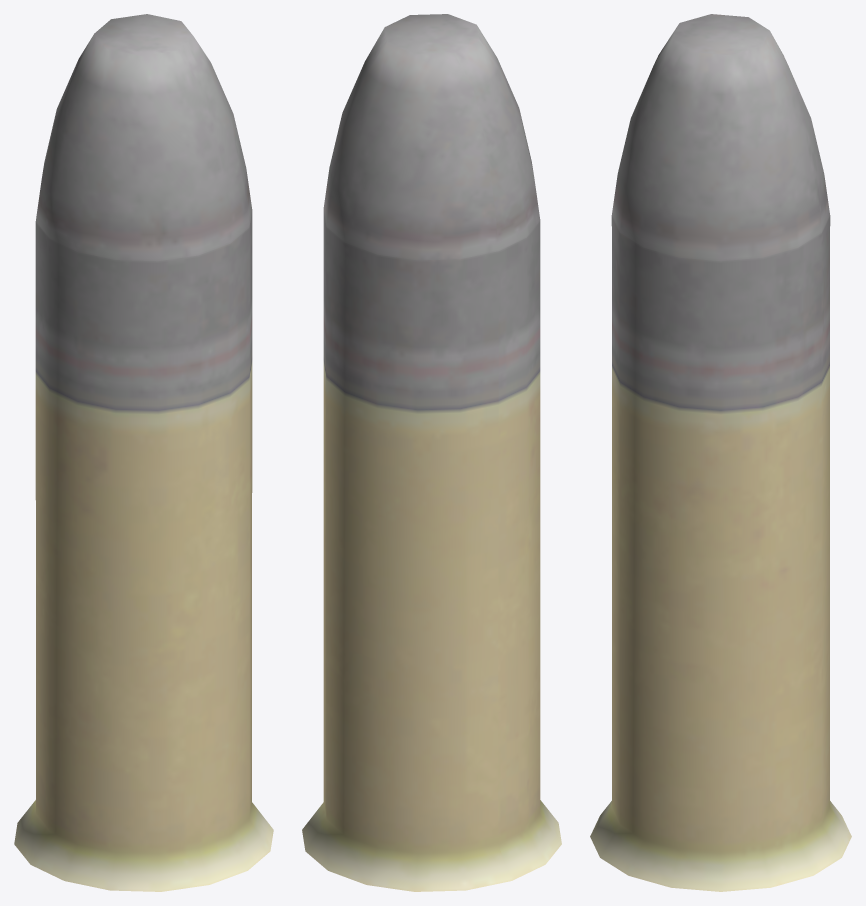
File: SM_Ammo_01a.glb
3 renders of one model, left to right at view 1: azimuth 30°, elevation 25°; view 2: azimuth 150°, elevation 25°; view 3: azimuth 270°, elevation 25°, orthographic.
Visible parts, largest first — view 1: SM_Ammo_01a; view 2: SM_Ammo_01a; view 3: SM_Ammo_01a.
Part boxes in pixels (x1=…): SM_Ammo_01a: x1=14, y1=14, x2=273, y2=891; SM_Ammo_01a: x1=302, y1=14, x2=561, y2=891; SM_Ammo_01a: x1=590, y1=14, x2=851, y2=891.
Size of the model in its own units: 0.0071 by 0.024 by 0.0071.
1 material, 1 textured.
